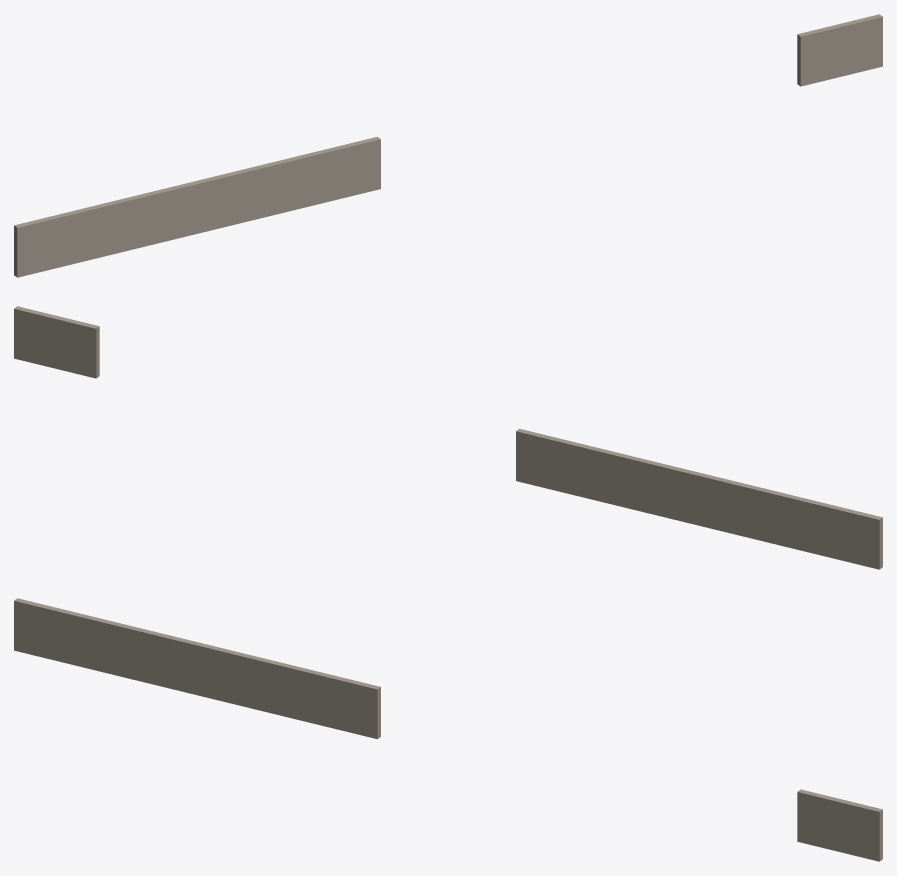
The model's file is SM_Skirting_Living_North_003.fbx.
The picture shows the model from 3 angles, top to bottom: view 1: azimuth 30°, elevation 25°; view 2: azimuth 150°, elevation 25°; view 3: azimuth 330°, elevation 25°; orthographic projection.
Visible parts, largest first — view 1: SM_Skirting_Living_North_003; view 2: SM_Skirting_Living_North_003; view 3: SM_Skirting_Living_North_003.
Boxes of the visible parts, left/top/right/bottom form: SM_Skirting_Living_North_003: left=14, top=14, right=882, bottom=277; SM_Skirting_Living_North_003: left=14, top=306, right=882, bottom=569; SM_Skirting_Living_North_003: left=14, top=598, right=882, bottom=861.
Bounding box in the file's own units: 200 × 11 × 1.4.
